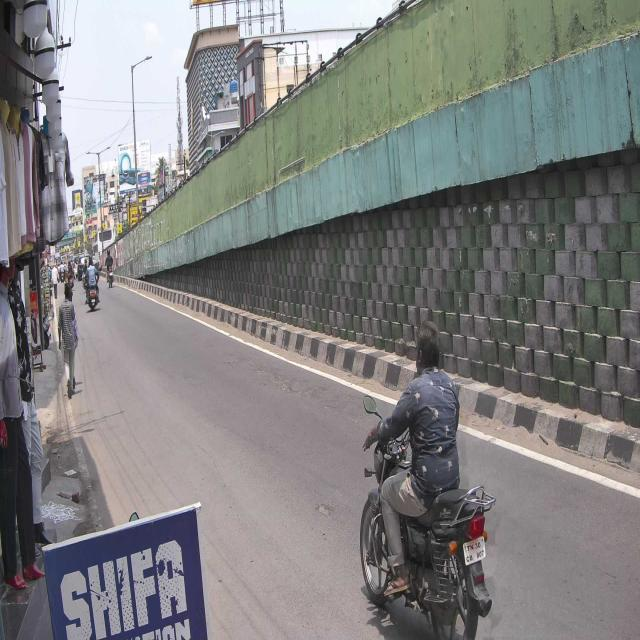single_rider: (359, 316, 496, 640)
